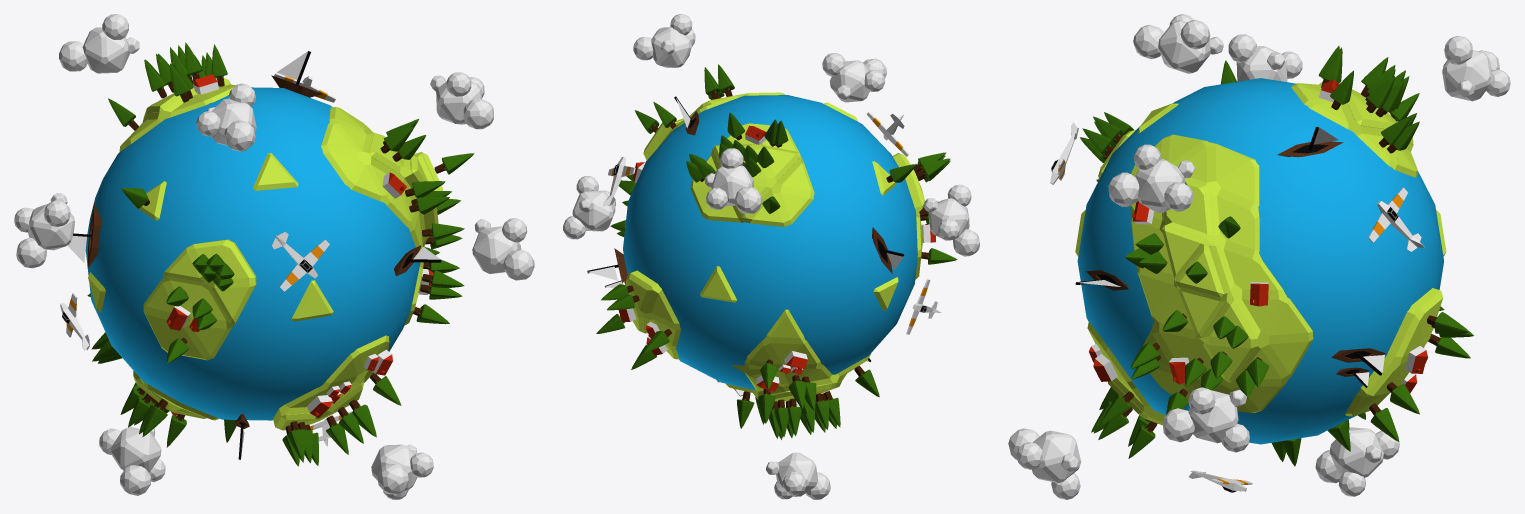
File: 1st_state_earth.fbx
3 views of the same model, side by side, from view 1: azimuth 30°, elevation 25°; view 2: azimuth 150°, elevation 25°; view 3: azimuth 270°, elevation 25° (orthographic). The views are drawn at different scales.
Parts seen in each view (by area): view 1: woda, ziemia, Icosphere.001, Icosphere, Icosphere.002, Icosphere.003, Icosphere.006, Icosphere.004, Icosphere.005, Plane.106, Plane.090, Plane.091 (+2 smaller); view 2: woda, ziemia, Icosphere.001, Icosphere, Icosphere.006, Icosphere.004, Icosphere.002, Icosphere.003, Plane.090, Plane.105, Plane.106, Plane.092 (+1 smaller); view 3: woda, ziemia, Icosphere.004, Icosphere.003, Icosphere.005, Icosphere.002, Icosphere.006, Icosphere.001, Icosphere, Plane.105, Plane.091, Plane.092 (+7 smaller).
Part boxes in pixels (<box>): woda: <box>85,87,420,420</box>; ziemia: <box>88,78,442,430</box>; Icosphere.001: <box>59,14,139,73</box>; Icosphere: <box>14,193,74,268</box>; Icosphere.002: <box>99,426,165,495</box>; Icosphere.003: <box>472,218,534,280</box>; Icosphere.006: <box>196,83,256,151</box>; Icosphere.004: <box>430,72,493,129</box>; Icosphere.005: <box>371,444,433,499</box>; Plane.106: <box>271,232,329,291</box>; Plane.090: <box>67,203,102,268</box>; Plane.091: <box>271,51,322,97</box>; woda: <box>623,95,917,389</box>; ziemia: <box>625,92,924,401</box>; Icosphere.001: <box>704,148,762,214</box>; Icosphere: <box>923,184,979,256</box>; Icosphere.006: <box>822,53,886,102</box>; Icosphere.004: <box>633,14,695,67</box>; Icosphere.002: <box>766,452,830,499</box>; Icosphere.003: <box>563,176,615,239</box>; Plane.090: <box>872,227,904,273</box>; Plane.105: <box>603,157,635,206</box>; Plane.106: <box>867,112,908,156</box>; Plane.092: <box>587,248,627,283</box>; woda: <box>1077,78,1443,444</box>; ziemia: <box>1075,81,1446,425</box>; Icosphere.004: <box>1108,144,1194,212</box>; Icosphere.003: <box>1162,387,1249,452</box>; Icosphere.005: <box>1008,428,1081,499</box>; Icosphere.002: <box>1315,427,1399,496</box>; Icosphere.006: <box>1133,14,1223,73</box>; Icosphere.001: <box>1442,36,1510,101</box>; Icosphere: <box>1228,34,1302,81</box>; Plane.105: <box>1368,187,1424,251</box>; Plane.091: <box>1277,127,1343,157</box>; Plane.092: <box>1331,348,1385,375</box>.
Size of the model in its own units: 5.97 by 5.3 by 4.98.
